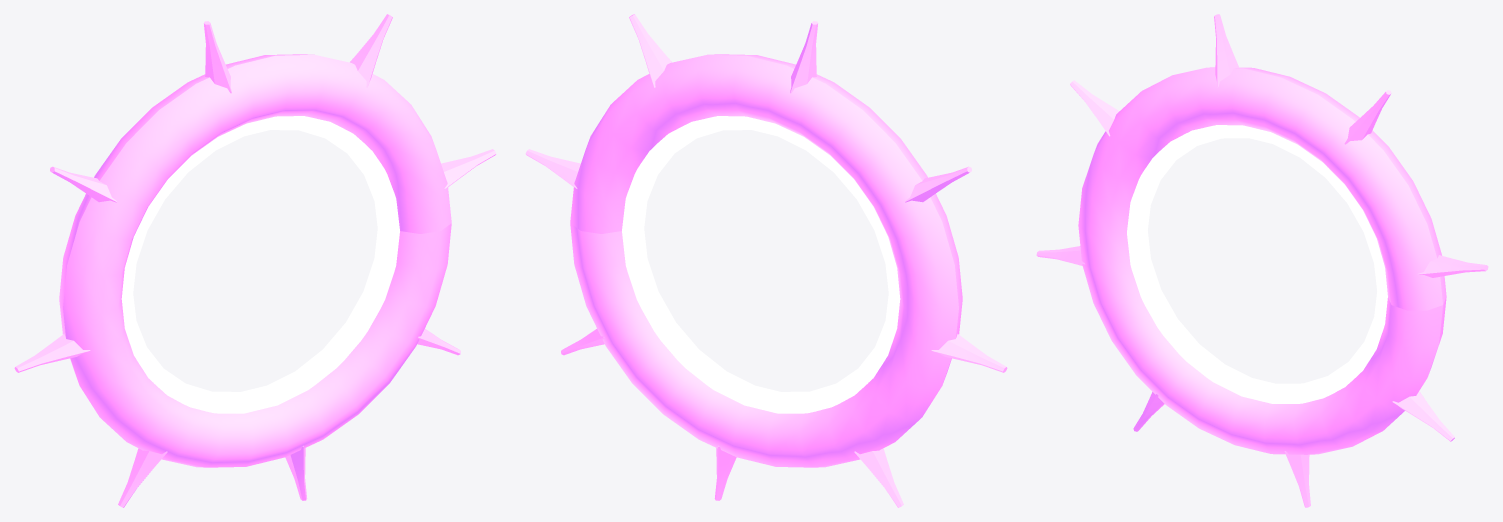
The model's file is vfx-mesh-library-portal-ring-8e64f6d8.glb.
3 views of the same model, side by side, from view 1: azimuth 30°, elevation 25°; view 2: azimuth 150°, elevation 25°; view 3: azimuth 330°, elevation 25° (orthographic). The views are drawn at different scales.
Visible parts, largest first — view 1: portal-ring; view 2: portal-ring; view 3: portal-ring.
Boxes of the visible parts, x1,y1,x2,y2 form: portal-ring: (14, 14, 496, 507); portal-ring: (525, 14, 1007, 507); portal-ring: (1036, 14, 1488, 507).
Size of the model in its own units: 1.22 by 1.22 by 0.1378.
